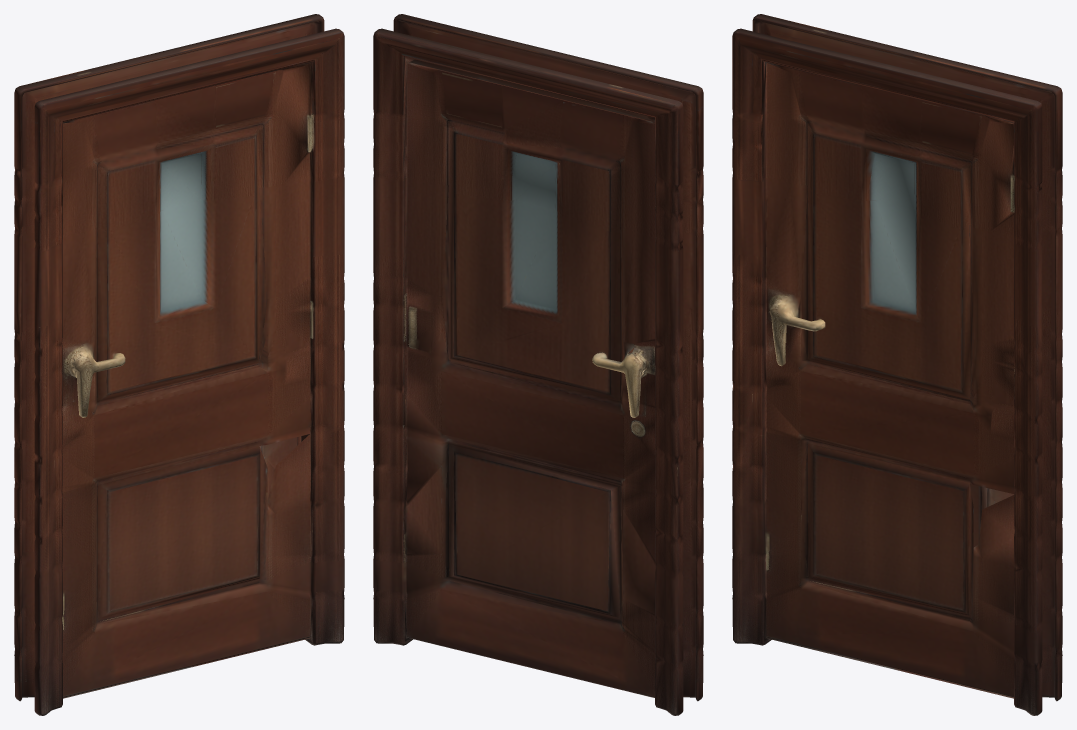
Rendered from Door_DirectorOffice.fbx.
The picture shows the model from 3 angles, left to right: view 1: azimuth 30°, elevation 25°; view 2: azimuth 150°, elevation 25°; view 3: azimuth 330°, elevation 25°; orthographic projection.
Parts seen in each view (by area): view 1: mesh_node; view 2: mesh_node; view 3: mesh_node.
Boxes of the visible parts, x1,y1,x2,y2 form: mesh_node: (14, 14, 344, 715); mesh_node: (373, 14, 703, 715); mesh_node: (732, 14, 1062, 715).
Bounding box in the file's own units: 99.8 × 191 × 17.61.
1 material, 1 textured.
